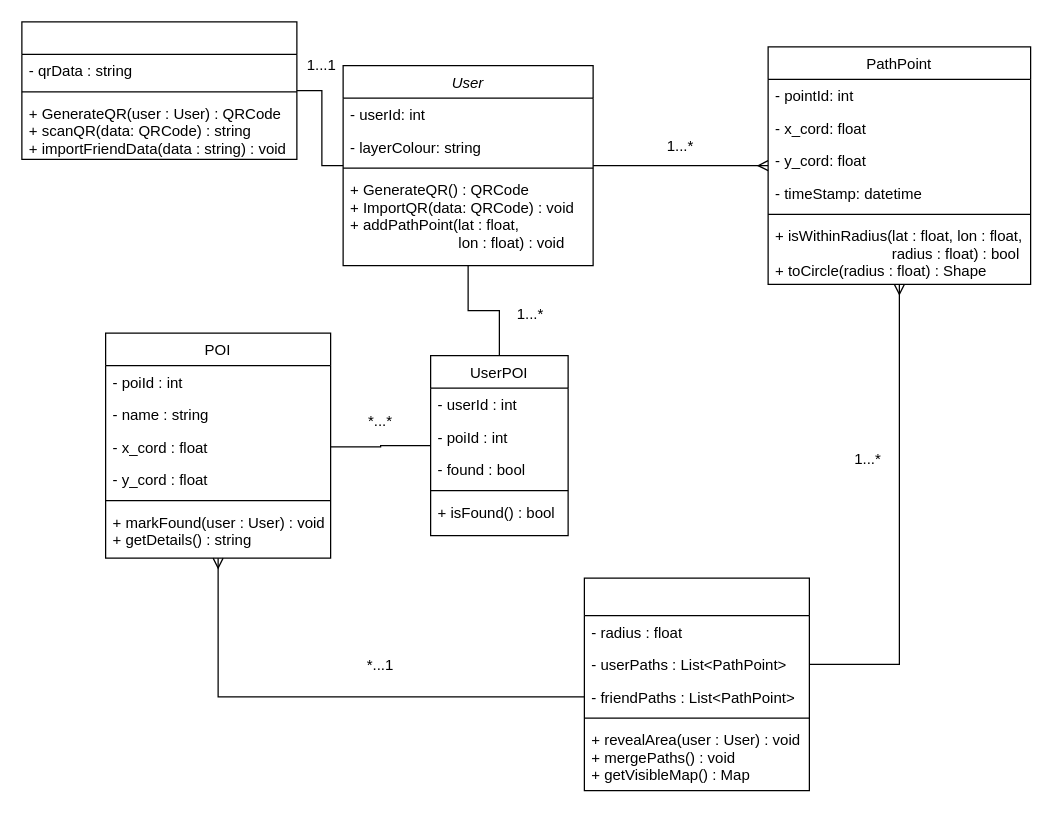
Some shapes in this 1053 by 816 pixel diagram are drawn without their labels. The shapes that lost their labels are listed below. From the top down, each one's box as (x1, y1, x2, y2) in pixels, then its label:
(21, 21, 297, 159): QRManager
(583, 577, 809, 791): MapManager
